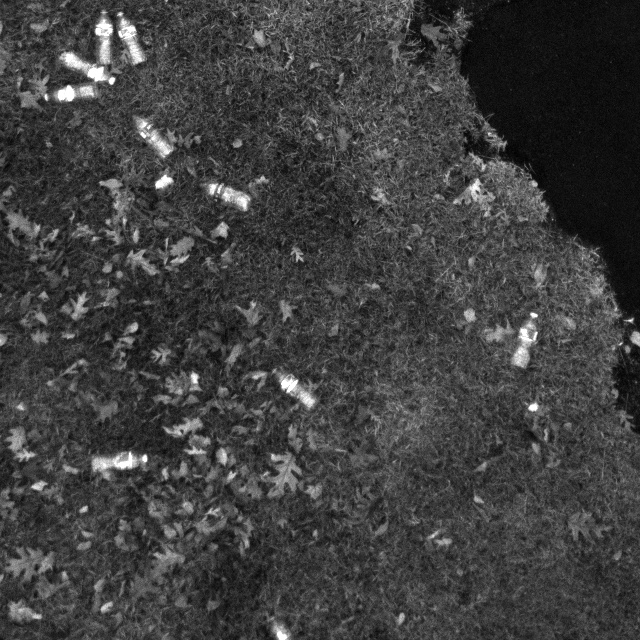bottle: (502, 301, 553, 379), (81, 438, 157, 487), (33, 67, 105, 112), (264, 362, 326, 412), (126, 110, 181, 162), (53, 46, 117, 87), (112, 6, 152, 65), (203, 172, 259, 213), (86, 3, 121, 67)
